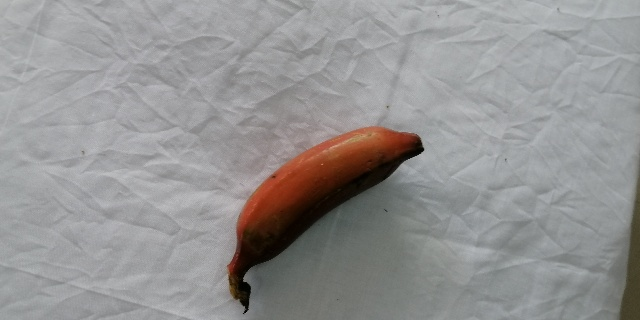banana_red: (223, 124, 425, 303)
